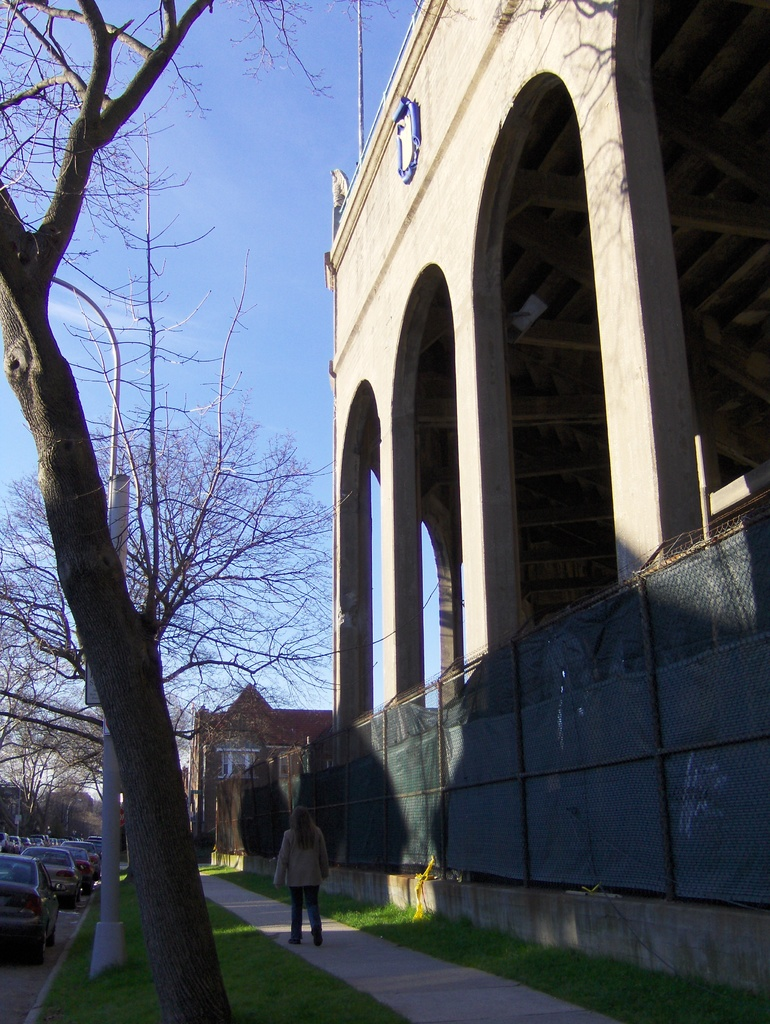Tree: (0, 385, 443, 876)
